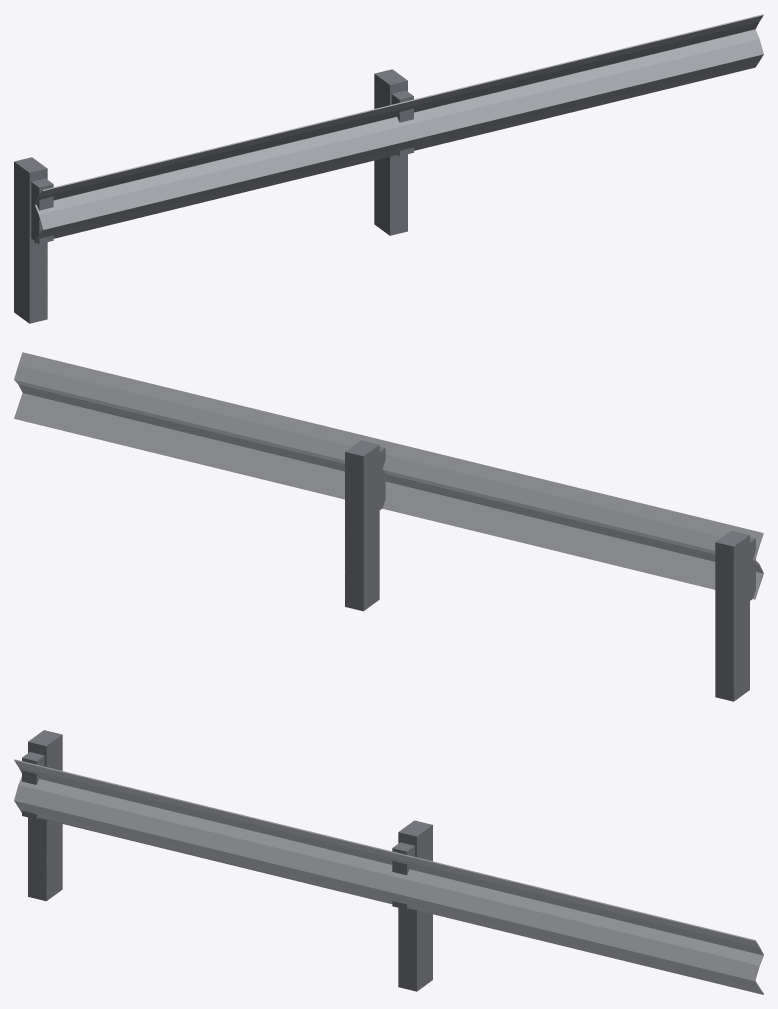
The model's file is safety_rail.glb.
3 renders of one model, top to bottom at view 1: azimuth 30°, elevation 25°; view 2: azimuth 150°, elevation 25°; view 3: azimuth 330°, elevation 25°, orthographic. The views are drawn at different scales.
Parts seen in each view (by area): view 1: safety_rail; view 2: safety_rail; view 3: safety_rail.
Part boxes in pixels (box(x1,y1,x2,y2)): safety_rail: box(14, 14, 763, 323); safety_rail: box(14, 352, 763, 701); safety_rail: box(14, 730, 763, 994).
Size of the model in its own units: 4 by 0.8 by 0.281.
Materials: 1 (1 with a texture image).
